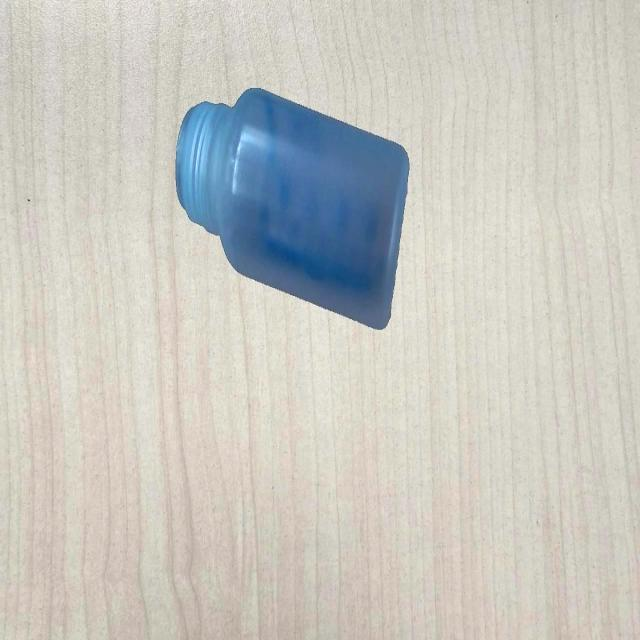bottle: (174, 85, 413, 332)
